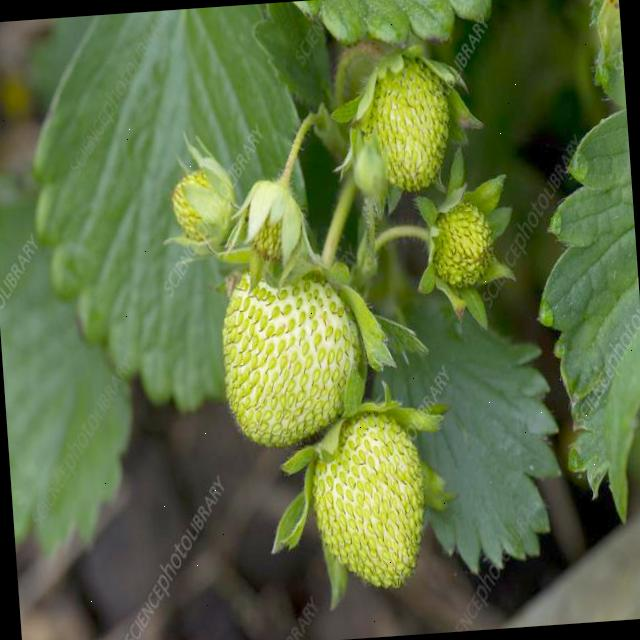strawberry: (220, 262, 366, 446), (308, 412, 432, 595), (364, 57, 453, 190), (428, 195, 494, 287), (170, 168, 233, 248)
